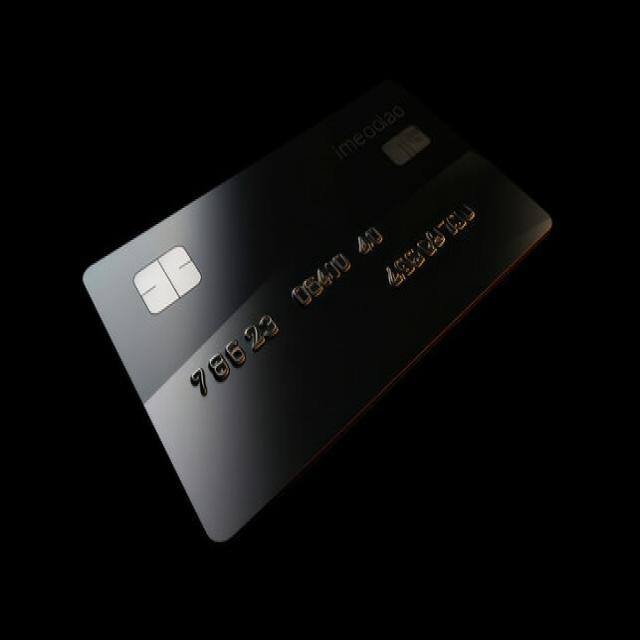payment_card: (80, 78, 554, 543)
